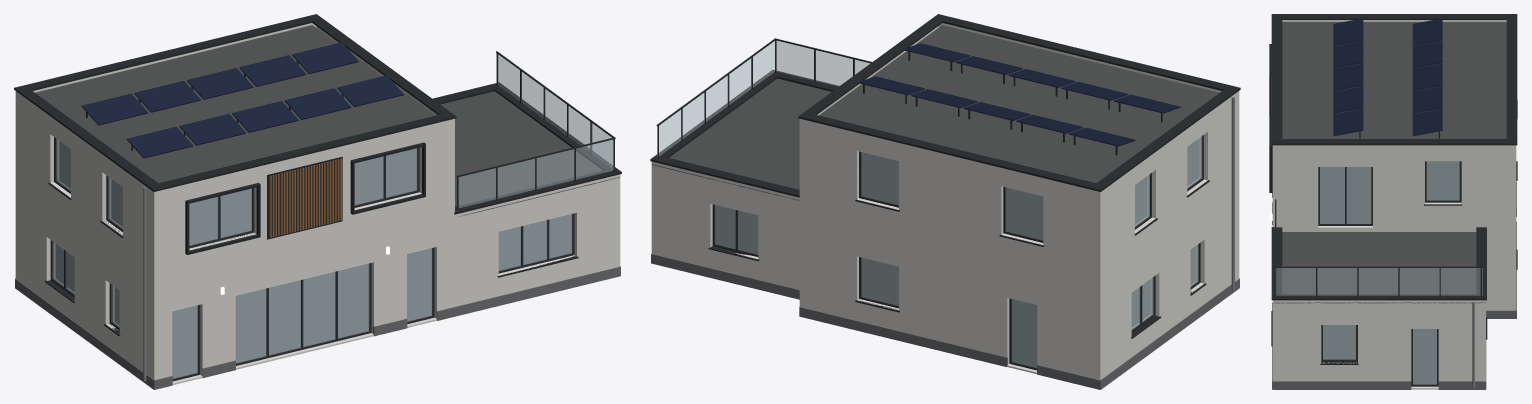
File: house_modern.glb
3 views of the same model, side by side, from view 1: azimuth 30°, elevation 25°; view 2: azimuth 150°, elevation 25°; view 3: azimuth 270°, elevation 25° (orthographic). The views are drawn at different scales.
Parts seen in each view (by area): view 1: wall, roof, glass.003, interior, trim, pv, railglass, frame, accent, plinth, zinc; view 2: wall, roof, trim, glass.003, interior, pv, railglass, plinth, frame, zinc; view 3: wall, roof, trim, pv, glass.003, interior, railglass, plinth, frame, zinc.
Boxes of the visible parts, bbox=[...] form: wall: bbox=[15, 23, 620, 384]; roof: bbox=[35, 25, 620, 217]; glass.003: bbox=[52, 138, 571, 378]; interior: bbox=[56, 141, 571, 377]; trim: bbox=[14, 14, 621, 335]; pv: bbox=[81, 42, 403, 158]; railglass: bbox=[458, 53, 613, 207]; frame: bbox=[50, 137, 574, 381]; accent: bbox=[269, 158, 341, 237]; plinth: bbox=[15, 266, 620, 389]; zinc: bbox=[143, 187, 146, 381]; wall: bbox=[651, 23, 1239, 380]; roof: bbox=[651, 25, 1219, 200]; trim: bbox=[650, 14, 1240, 338]; glass.003: bbox=[715, 136, 1202, 367]; interior: bbox=[716, 139, 1198, 366]; pv: bbox=[858, 43, 1180, 146]; railglass: bbox=[657, 40, 869, 157]; plinth: bbox=[651, 253, 1239, 389]; frame: bbox=[712, 135, 1203, 370]; zinc: bbox=[1231, 97, 1234, 290]; wall: bbox=[1272, 20, 1516, 389]; roof: bbox=[1273, 22, 1506, 303]; trim: bbox=[1269, 14, 1517, 364]; pv: bbox=[1333, 18, 1442, 136]; glass.003: bbox=[1320, 161, 1459, 384]; interior: bbox=[1320, 161, 1459, 383]; railglass: bbox=[1276, 268, 1482, 295]; plinth: bbox=[1272, 181, 1516, 389]; frame: bbox=[1318, 161, 1461, 386]; zinc: bbox=[1472, 301, 1474, 387].
Bounding box in the file's own units: 15.71 × 6.59 × 8.16.
